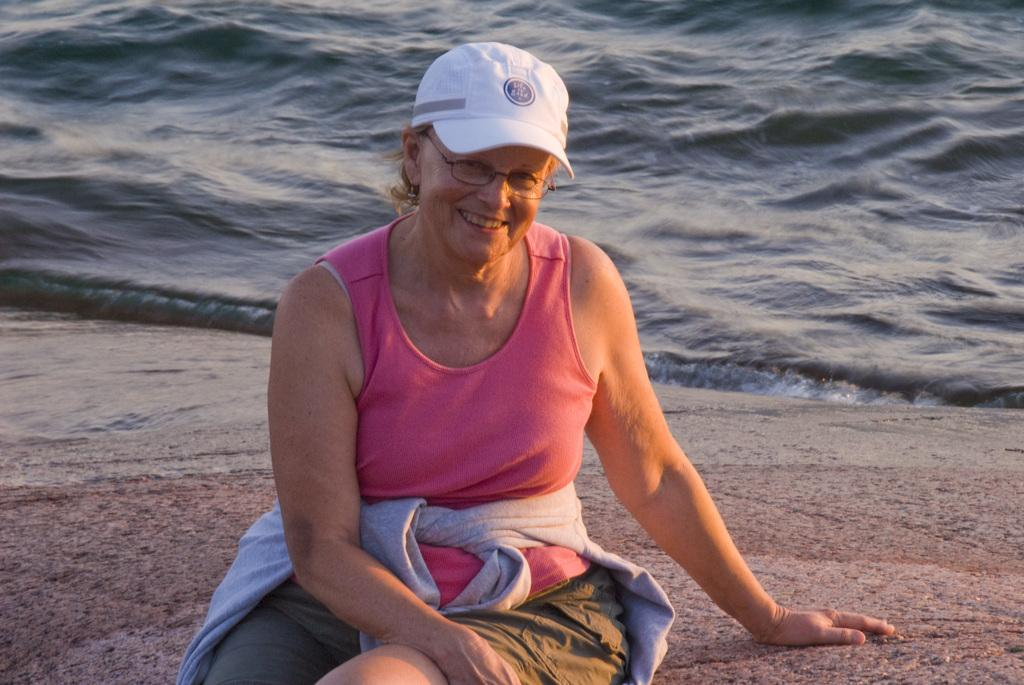Hat: (411, 39, 574, 174)
